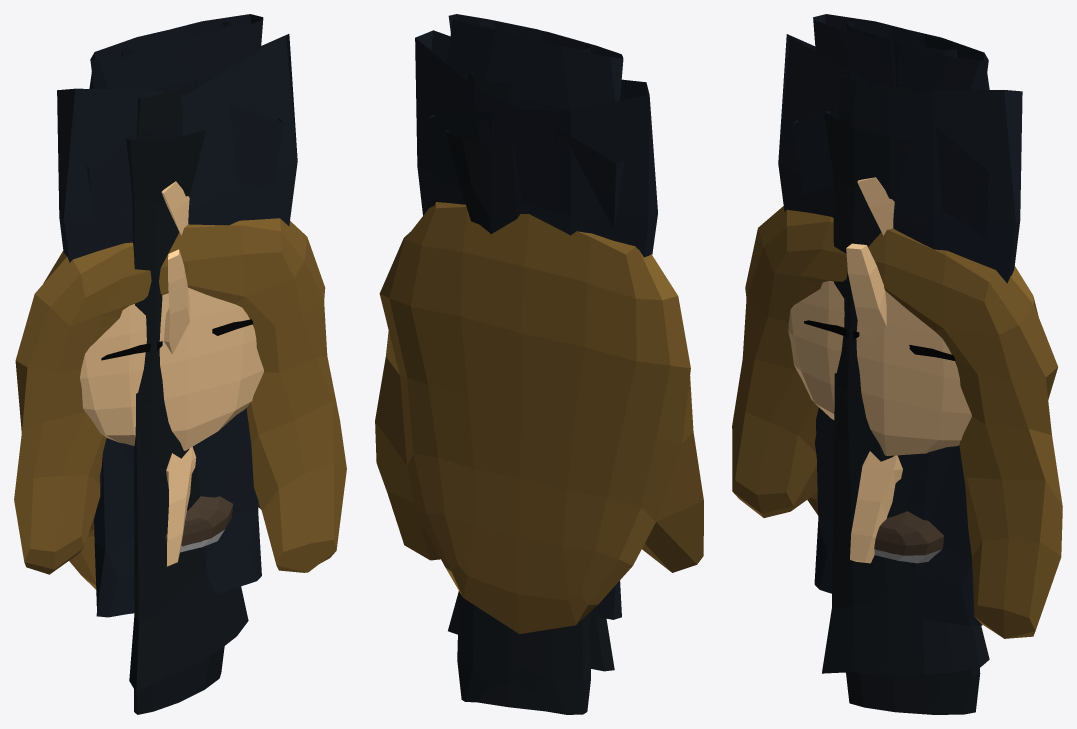
File: WomanCasualEmPartes.fbx
3 renders of one model, left to right at view 1: azimuth 30°, elevation 25°; view 2: azimuth 150°, elevation 25°; view 3: azimuth 330°, elevation 25°, orthographic.
Visible parts, largest first — view 1: Cabeca, CoxaEsq, CoxaDir, BracoDir, BracoEsq, PernaDir, AntebracoDir, PernaEsq, AntebracoEsq; view 2: Cabeca, CoxaDir, CoxaEsq, AntebracoDir, PernaDir, PernaEsq, BracoEsq, BracoDir, AntebracoEsq; view 3: Cabeca, CoxaEsq, BracoDir, CoxaDir, AntebracoDir, BracoEsq, PernaDir, AntebracoEsq, PernaEsq.
Part boxes in pixels (x1,y1,x2,y2): Cabeca: (14,218,346,589); CoxaEsq: (86,34,297,617); CoxaDir: (57,88,283,613); BracoDir: (129,361,248,692); BracoEsq: (125,130,205,524); PernaDir: (89,21,232,549); AntebracoDir: (134,181,224,714); PernaEsq: (121,14,263,552); AntebracoEsq: (137,80,198,566); Cabeca: (375,202,703,633); CoxaDir: (427,79,657,257); CoxaEsq: (415,30,624,619); AntebracoDir: (457,592,590,714); PernaDir: (480,20,623,235); PernaEsq: (446,14,590,213); BracoEsq: (446,130,522,233); BracoDir: (448,591,614,671); AntebracoEsq: (464,71,511,142); Cabeca: (732,206,1062,638); CoxaEsq: (792,90,1022,622); BracoDir: (822,345,989,675); CoxaDir: (778,34,993,626); AntebracoDir: (846,177,980,714); BracoEsq: (823,111,911,443); PernaDir: (813,14,957,563); AntebracoEsq: (839,76,912,563); PernaEsq: (846,21,989,557).
Size of the model in its own units: 121 by 234 by 27.6.
Materials: 1 (1 with a texture image).
